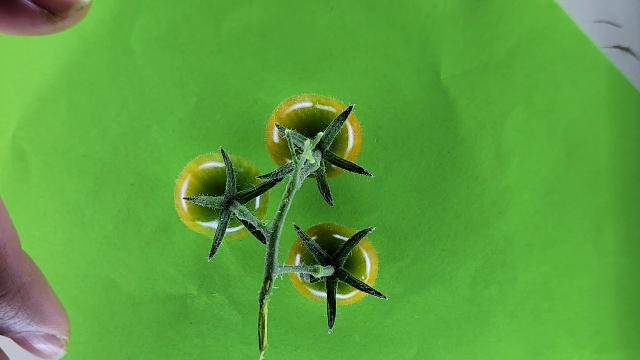Fully Grown: (173, 152, 270, 240), (265, 93, 363, 180), (287, 223, 380, 305)
